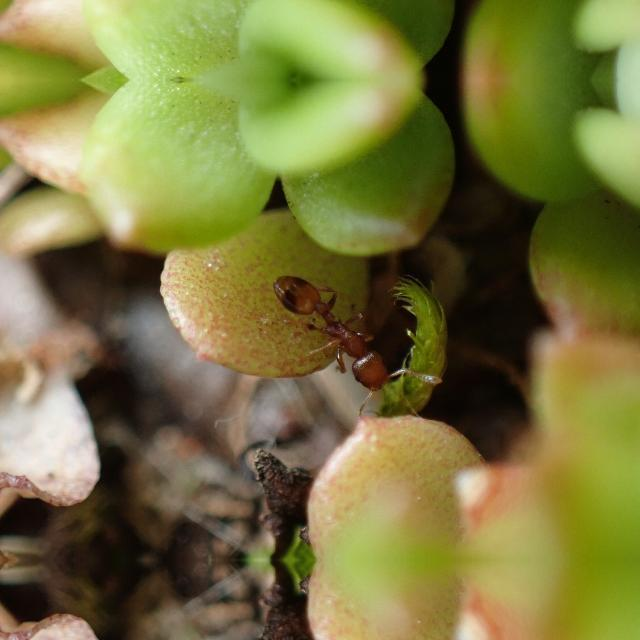Temnothorax: (268, 264, 404, 420)
